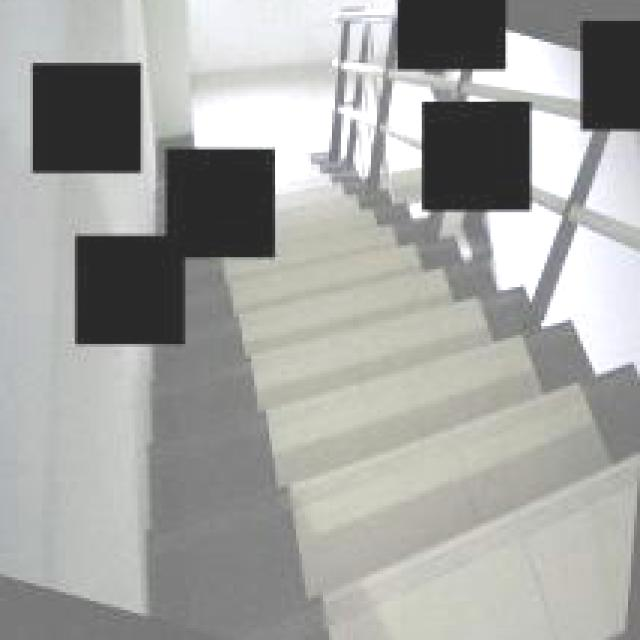downstair: (192, 261, 640, 640)
